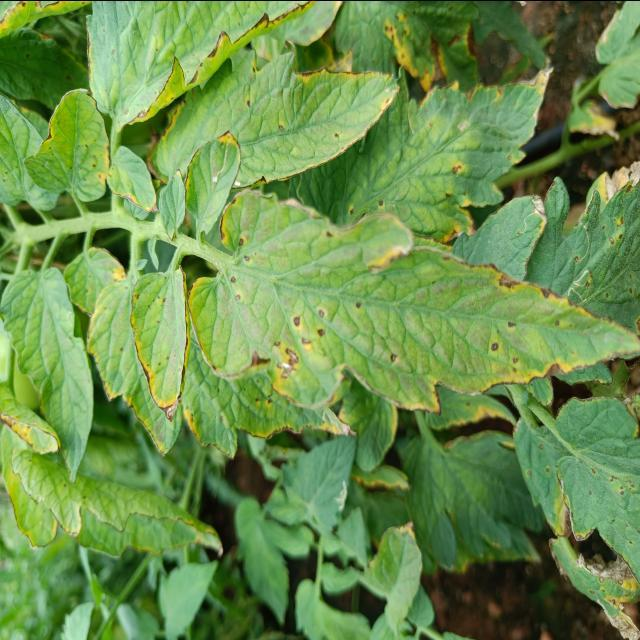Tomato mosaic virus leaf: (187, 180, 640, 421), (346, 66, 555, 246), (163, 38, 402, 192), (126, 262, 192, 428), (26, 86, 112, 202)
